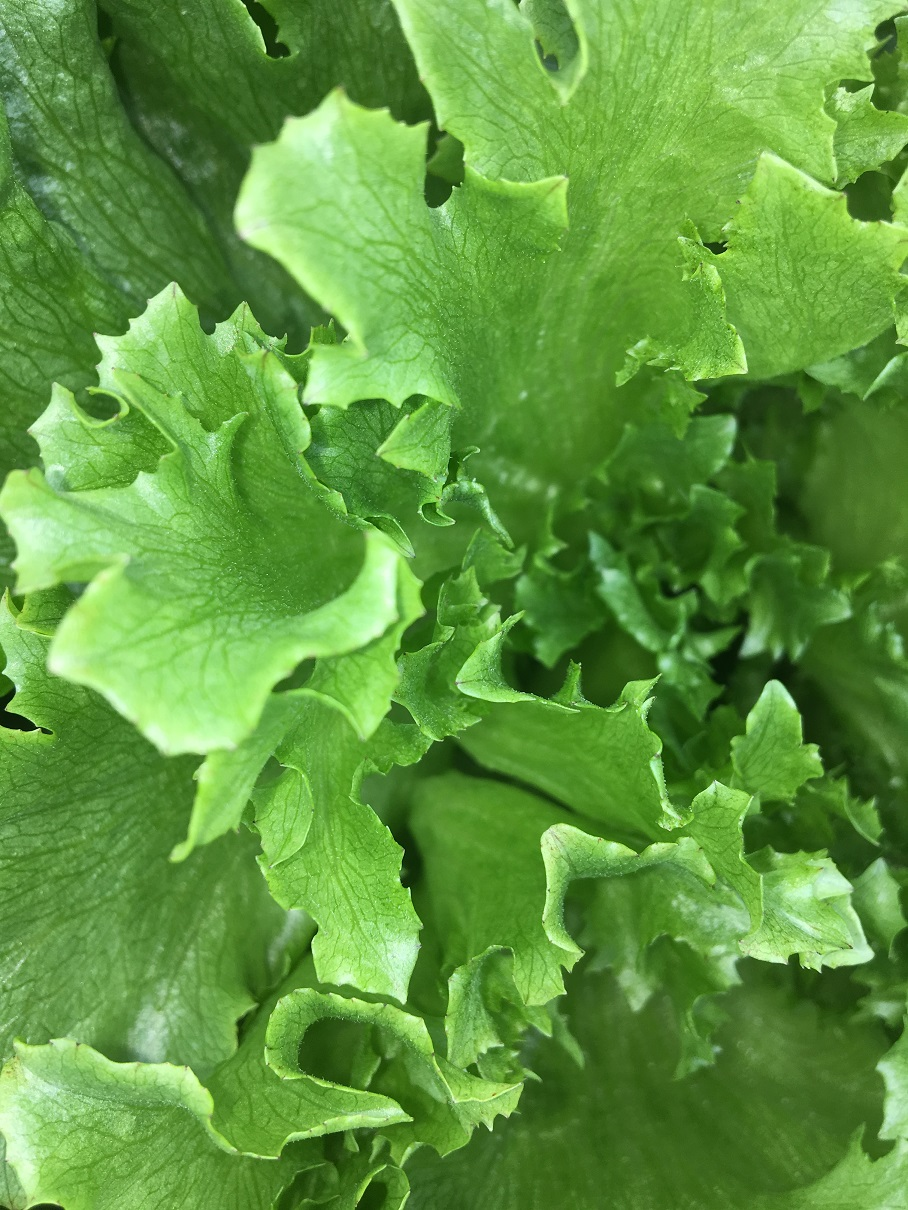tipburn: (76, 388, 133, 440)
